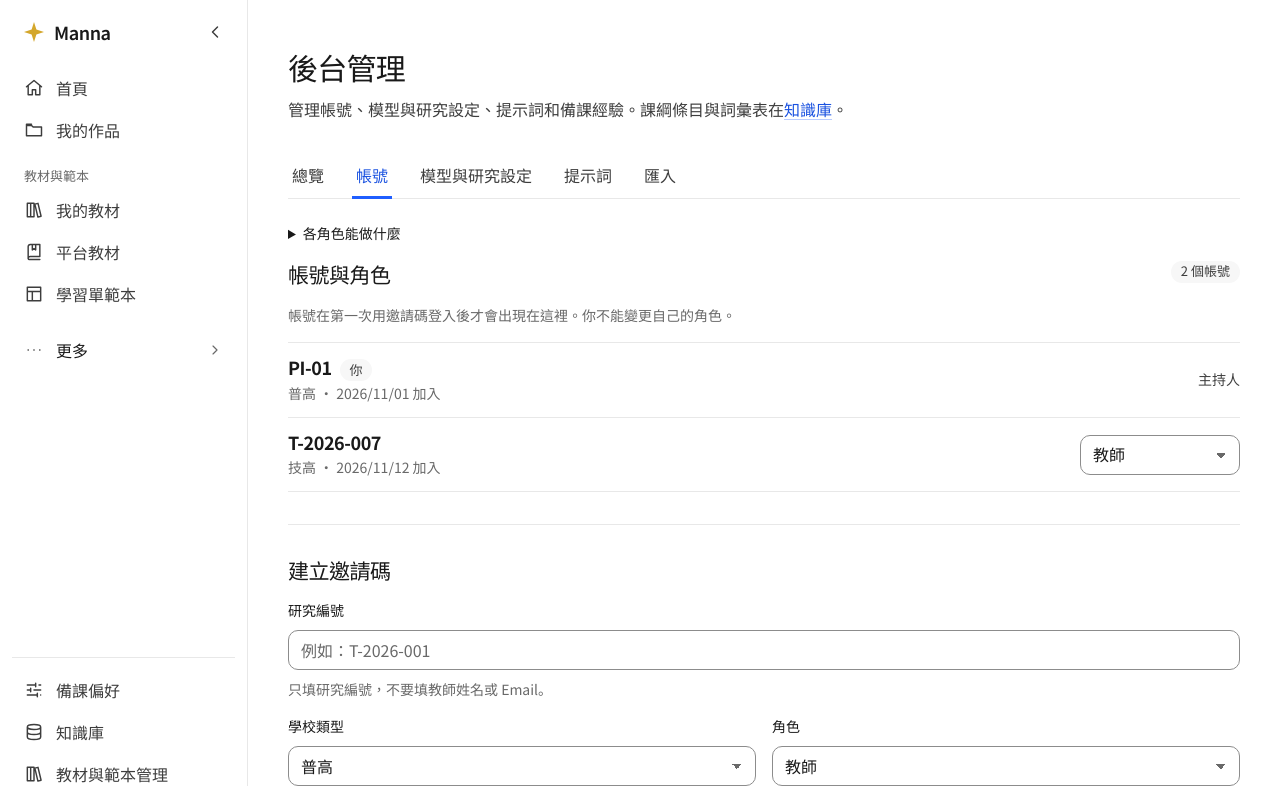
Test: 帳號與角色 (pi) › asks before changing a role, then saves it
Select "知識庫管理員" in the dropdown named "T-2026-007 的角色": point(1160, 455) left=1080, top=435, right=1240, bottom=475
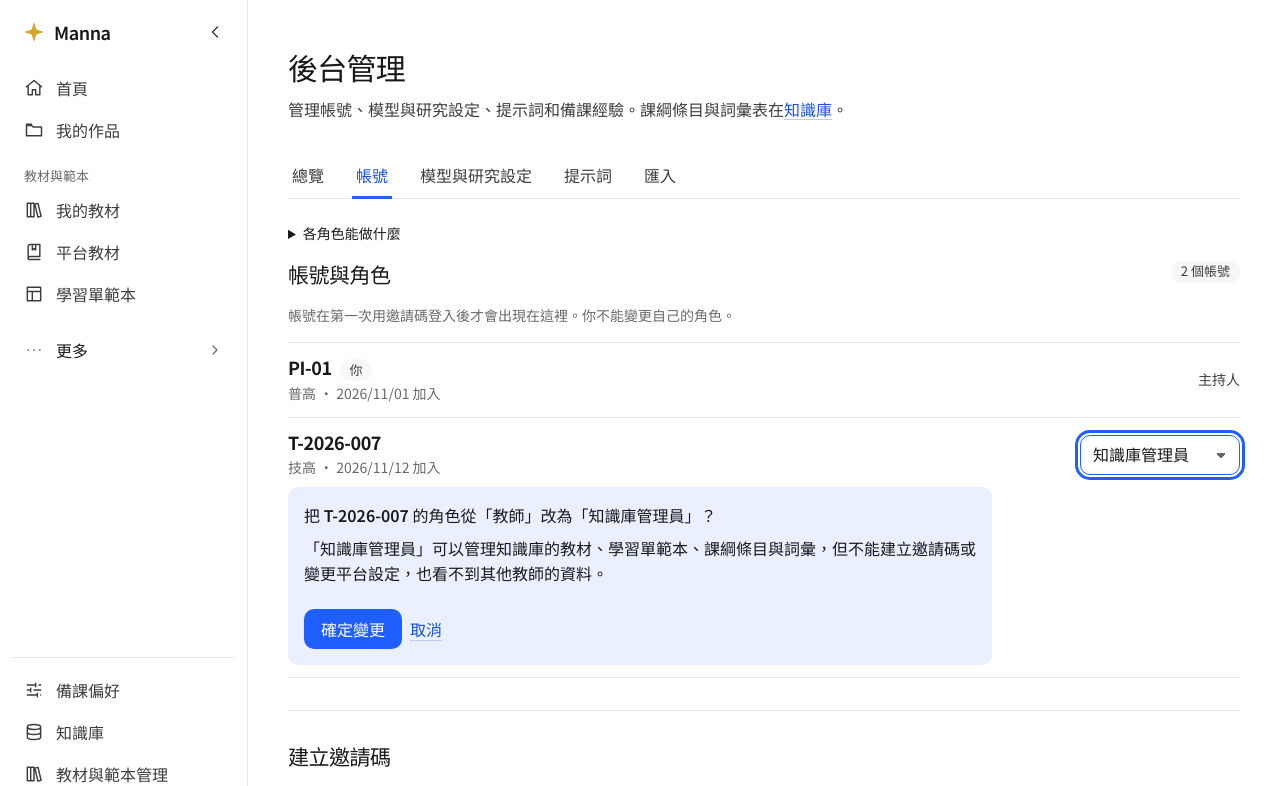
Now the dialog named "確認變更 T-2026-007 的角色" shows "把 T-2026-007 的角色從「教師」改為「知識庫管理員」？", box left=288, top=487, right=992, bottom=665
Now the dialog named "確認變更 T-2026-007 的角色" shows "可以管理知識庫的教材、學習單範本、課綱條目與詞彙", box left=304, top=536, right=976, bottom=585
Click the button "取消": point(426, 629) left=410, top=617, right=442, bottom=642
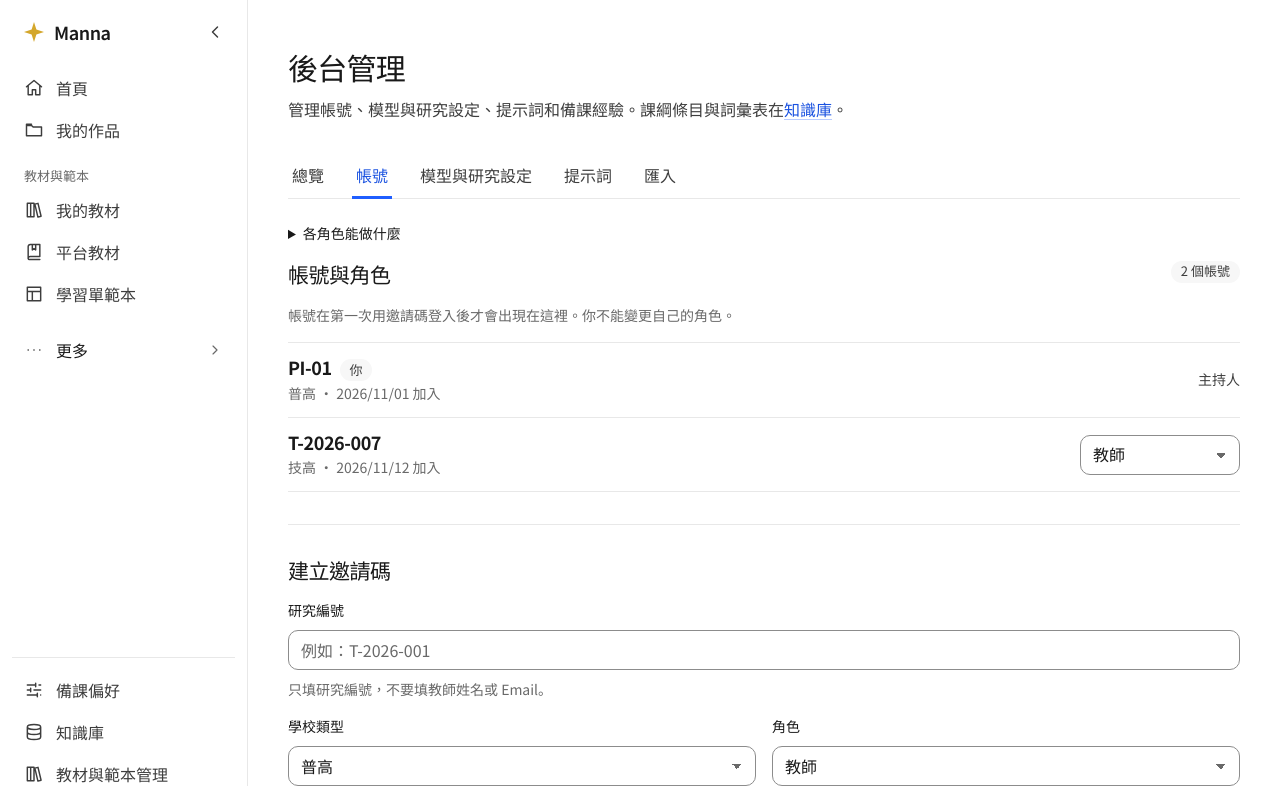
Now the dialog is gone
Select "知識庫管理員" in the dropdown named "T-2026-007 的角色": point(1160, 455) left=1080, top=435, right=1240, bottom=475
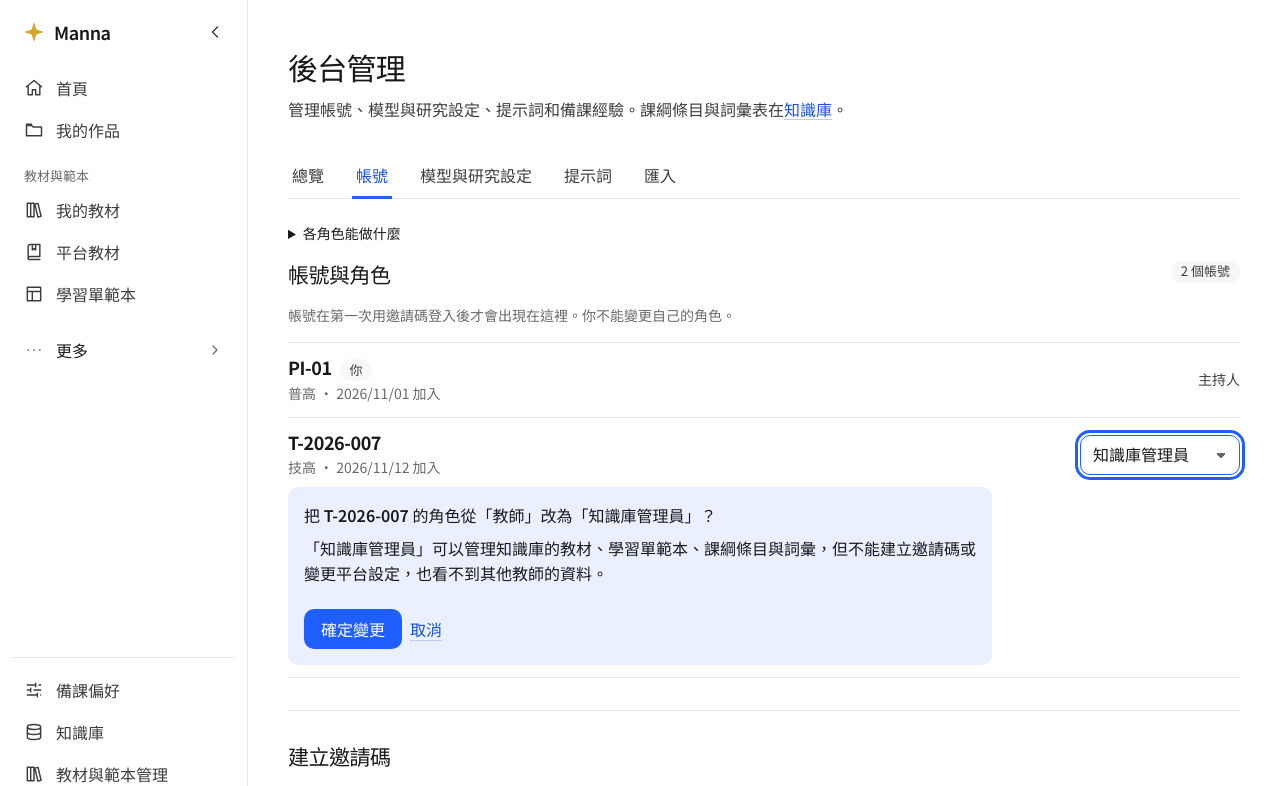
Click the button "確定變更": point(353, 629) left=304, top=609, right=402, bottom=649
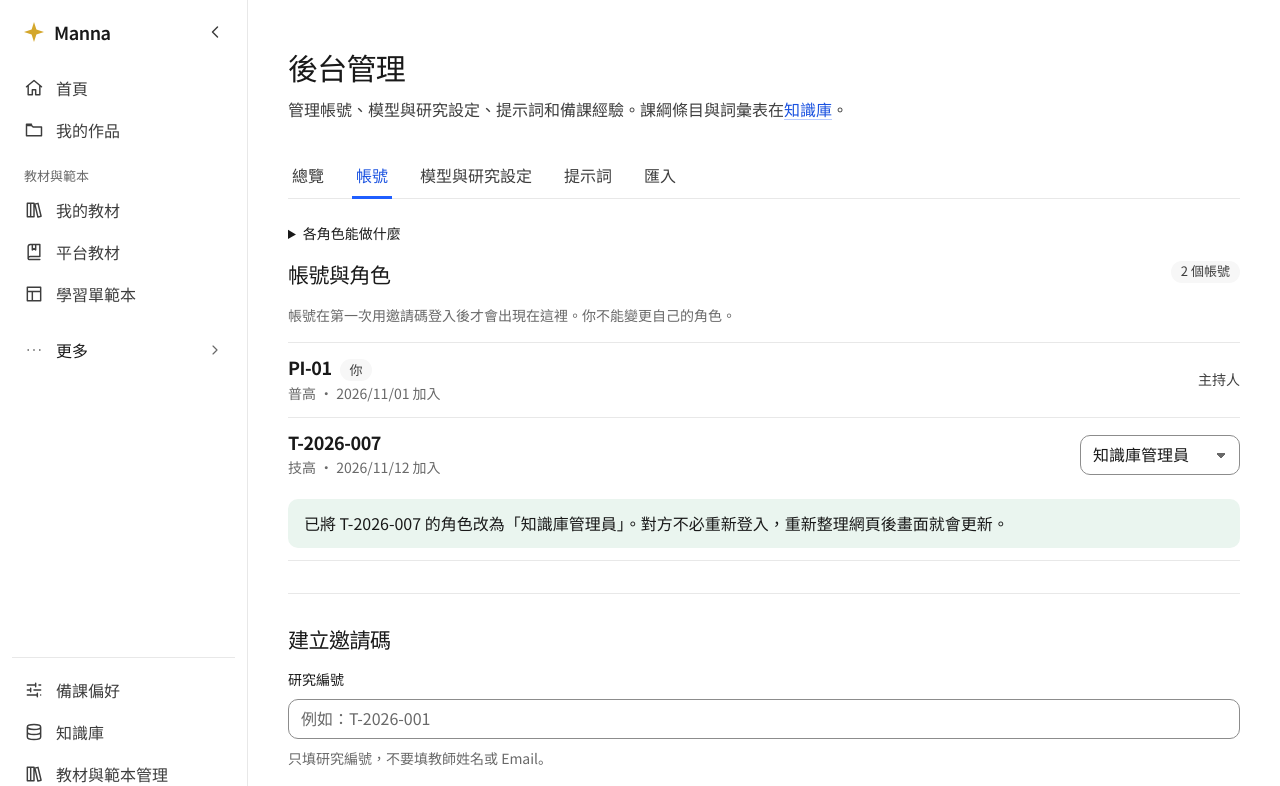
Now the text "已將 T-2026-007 的角色改為「知識庫管理員」。對方不必重新登入，重新整理網頁後畫面就會更新。" is shown, box left=288, top=499, right=1240, bottom=548
Now the dialog is gone
